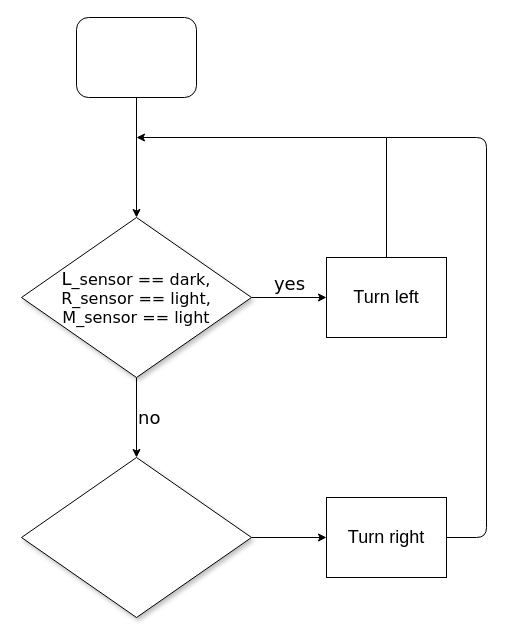
The diagram is 505 pixels wide and 642 high, and some of its shapes have lost their labels. Here are the shapes that lost their labels. From the top down, the centre of each, then its label:
At point 136,57: "drive forward".
At point 137,538: "L _sensor == light, R_sensor == dark, M_sensor == light".
